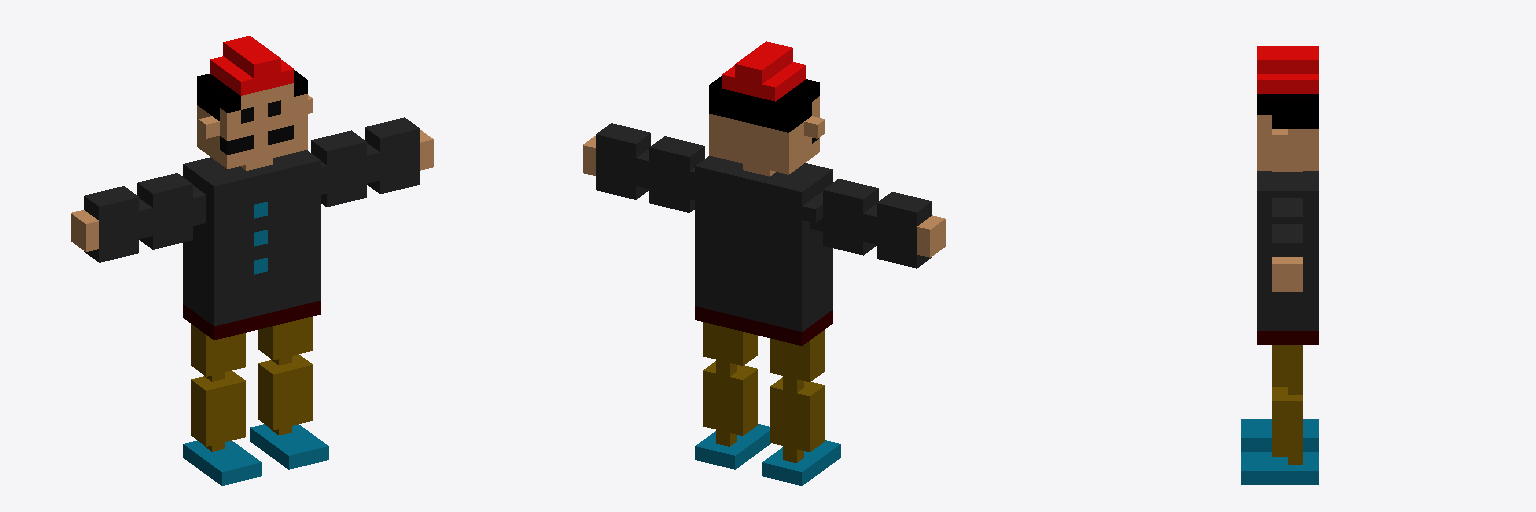
3 renders of one model, left to right at view 1: azimuth 30°, elevation 25°; view 2: azimuth 150°, elevation 25°; view 3: azimuth 270°, elevation 25°, orthographic.
Parts seen in each view (by area): view 1: character4; view 2: character4; view 3: character4.
Boxes of the visible parts, x1,y1,x2,y2 form: character4: [71, 36, 433, 485]; character4: [583, 41, 945, 485]; character4: [1241, 46, 1318, 484].
Bounding box in the file's own units: 26 × 29 × 5.
1 materials, 1 textured.